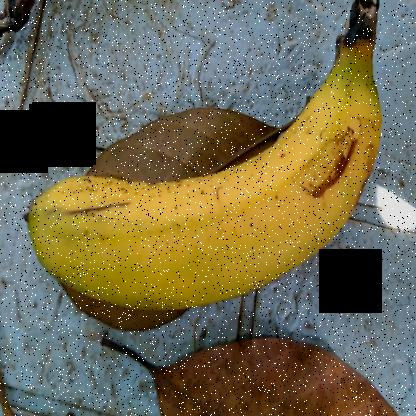ripe: (18, 7, 389, 328)
